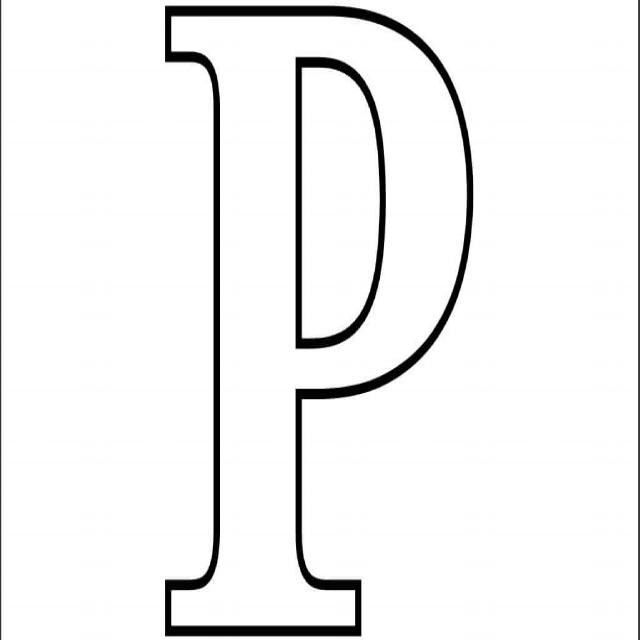P: (132, 4, 525, 640)
